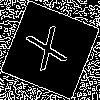X: (25, 25, 74, 80)
